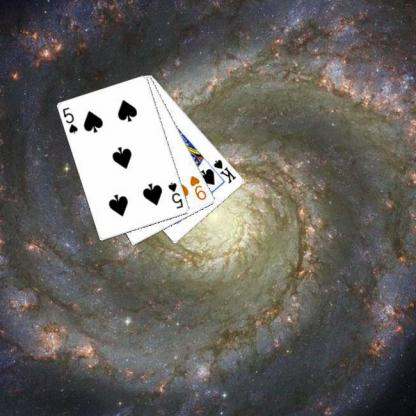5S: (61, 104, 80, 135), (166, 180, 185, 210)
9H: (188, 172, 208, 202)
KS: (210, 157, 238, 185)
